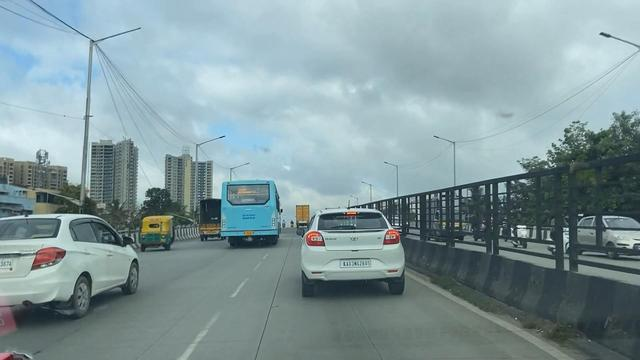HMV: (222, 174, 284, 250), (197, 194, 231, 244), (293, 198, 312, 233)
LMV: (0, 196, 161, 314), (287, 205, 422, 304), (135, 207, 184, 255)
